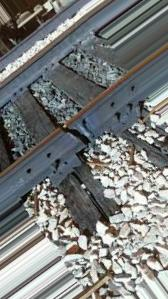tracks_fault: (36, 67, 152, 197)
